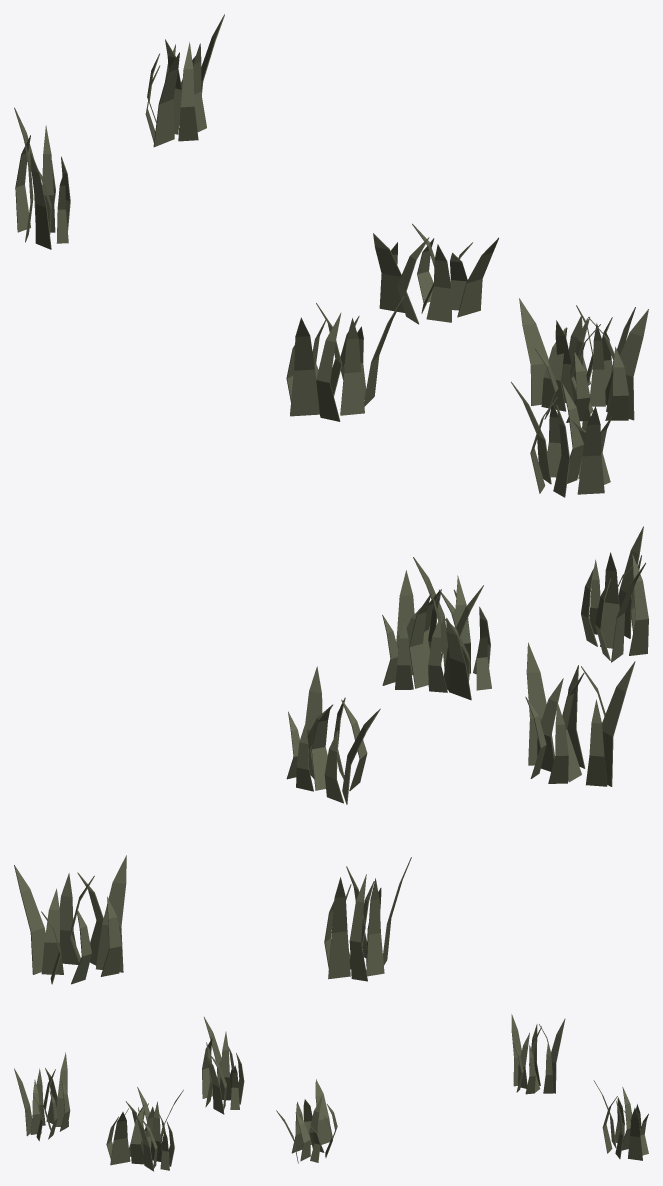
The model's file is ChurchGrass.fbx.
3 views of the same model, one above another, from view 1: azimuth 30°, elevation 25°; view 2: azimuth 150°, elevation 25°; view 3: azimuth 270°, elevation 25° (orthographic). The views are drawn at different scales.
Visible parts, largest first — view 1: Grass.013; view 2: Grass.013; view 3: Grass.013.
Boxes of the visible parts, box(x1,y1,x2,y2) form: Grass.013: box(14, 14, 648, 497); Grass.013: box(14, 526, 648, 984); Grass.013: box(14, 1014, 648, 1171).
Bounding box in the file's own units: 4.91 × 1.72 × 13.94.
Materials: 1 (1 with a texture image).
